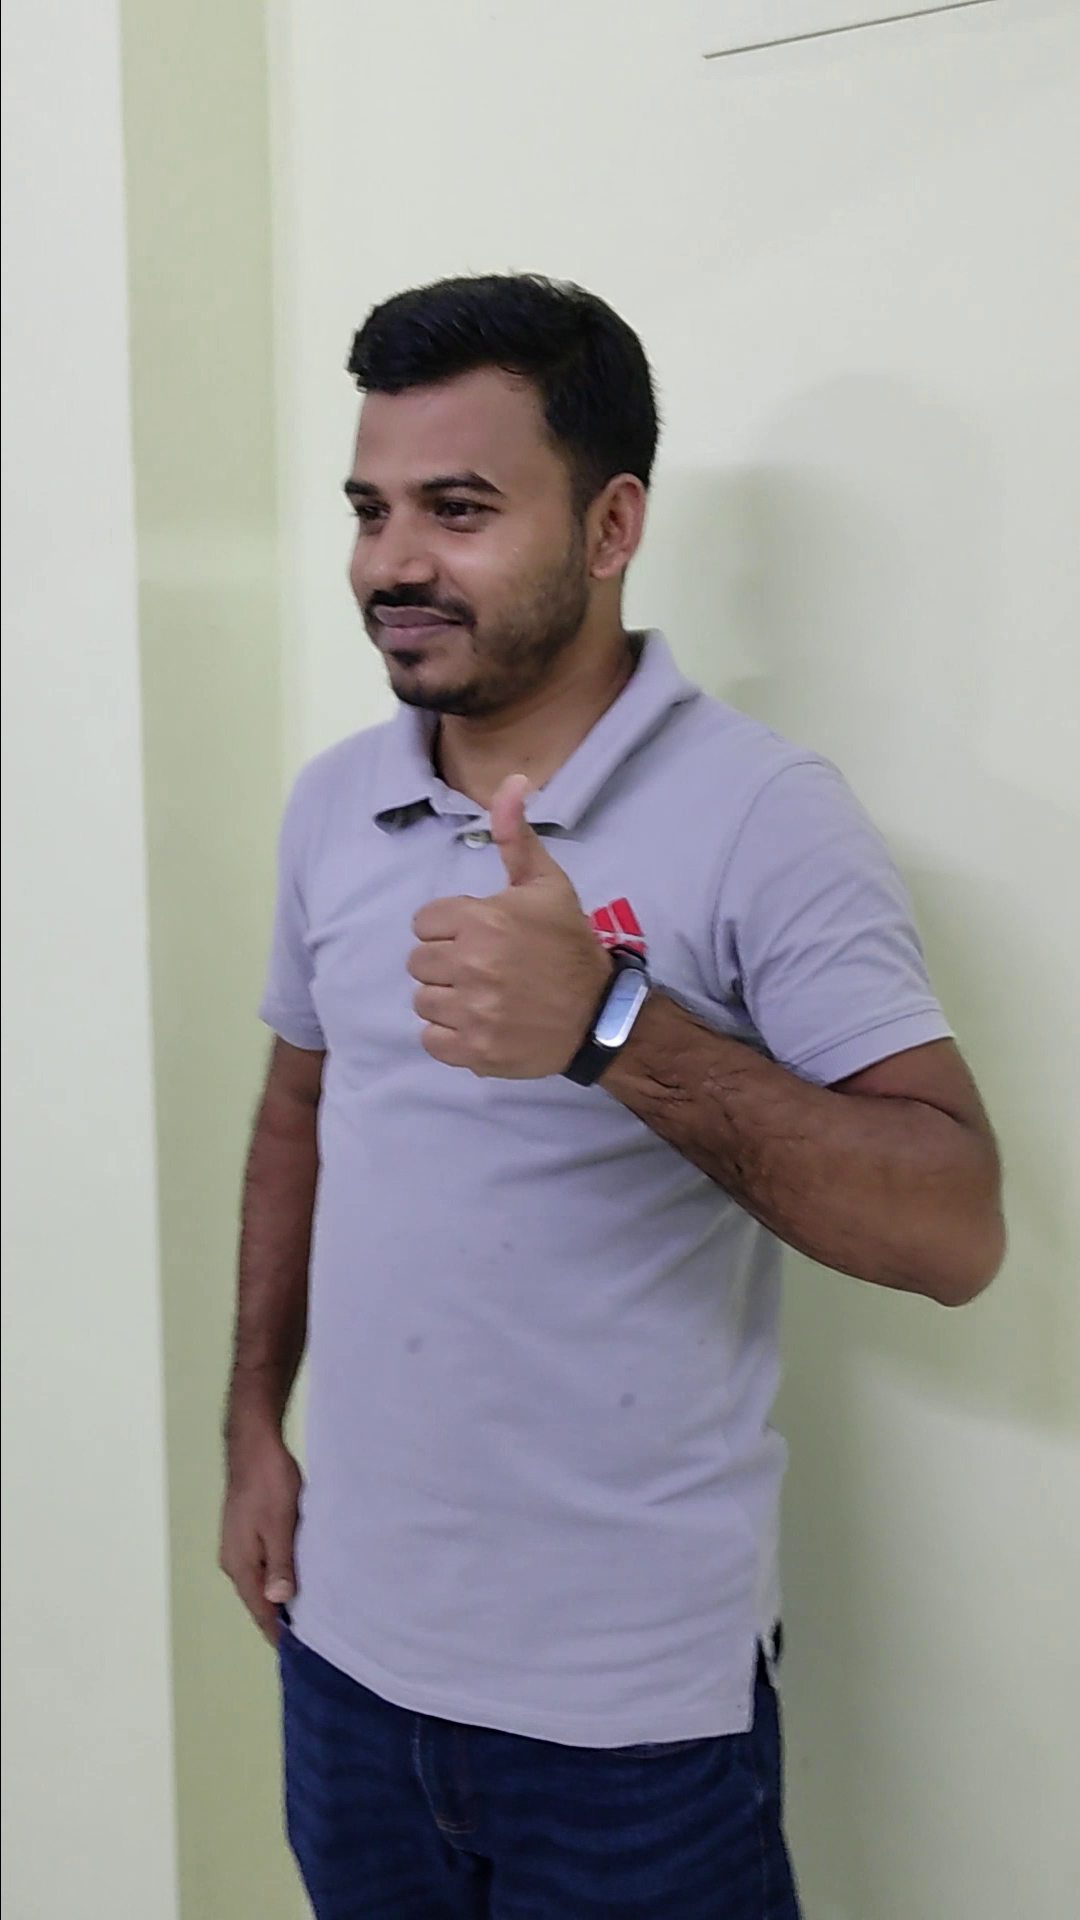Like: (390, 753, 629, 1091)
None: (186, 1375, 334, 1669)
